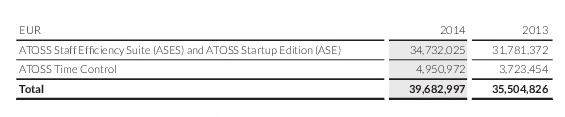table: (0, 0, 565, 117)
